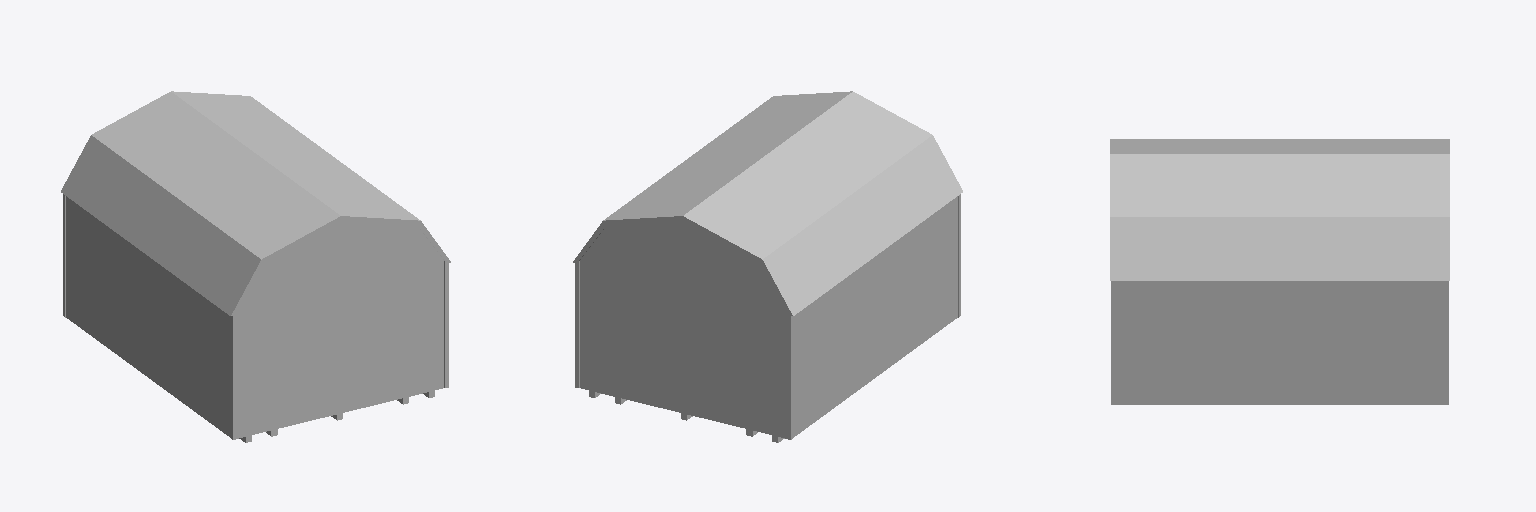
Rendered from Dutch Barn_12x16.obj.
3 renders of one model, left to right at view 1: azimuth 30°, elevation 25°; view 2: azimuth 150°, elevation 25°; view 3: azimuth 270°, elevation 25°, orthographic.
Visible parts, largest first — view 1: Dutch Barn_12x16.obj; view 2: Dutch Barn_12x16.obj; view 3: Dutch Barn_12x16.obj.
Part boxes in pixels (x1,y1,x2,y2): Dutch Barn_12x16.obj: (61, 91, 450, 442); Dutch Barn_12x16.obj: (573, 91, 962, 442); Dutch Barn_12x16.obj: (1110, 139, 1449, 404).
Bounding box in the file's own units: 3.69 × 3.27 × 4.93.